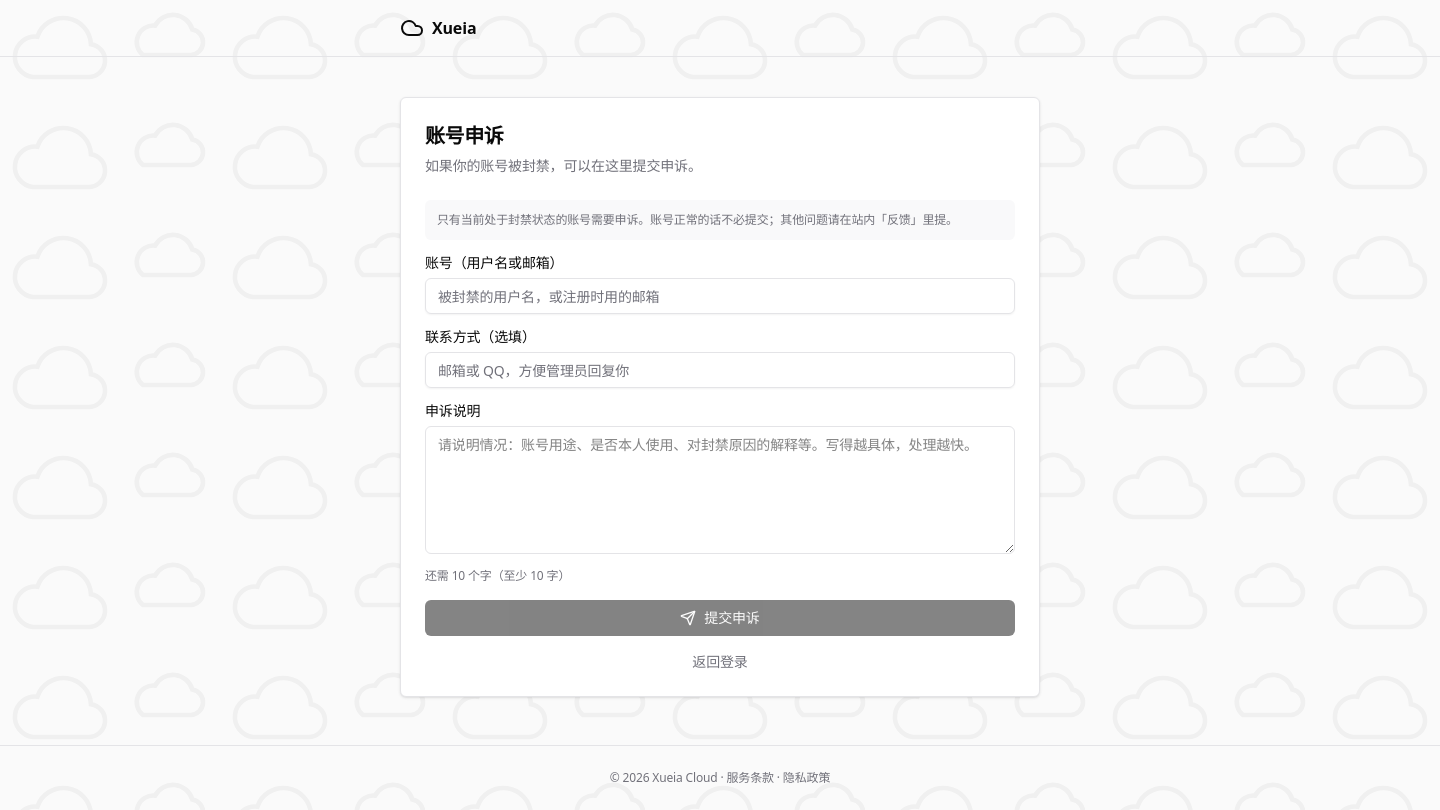
AppealPage（公开页） › submits and switches to the submitted state
In the field labelled "账号（用户名或邮箱）": {"x": 720, "y": 296} [425,278,1015,314], type "jooyang"
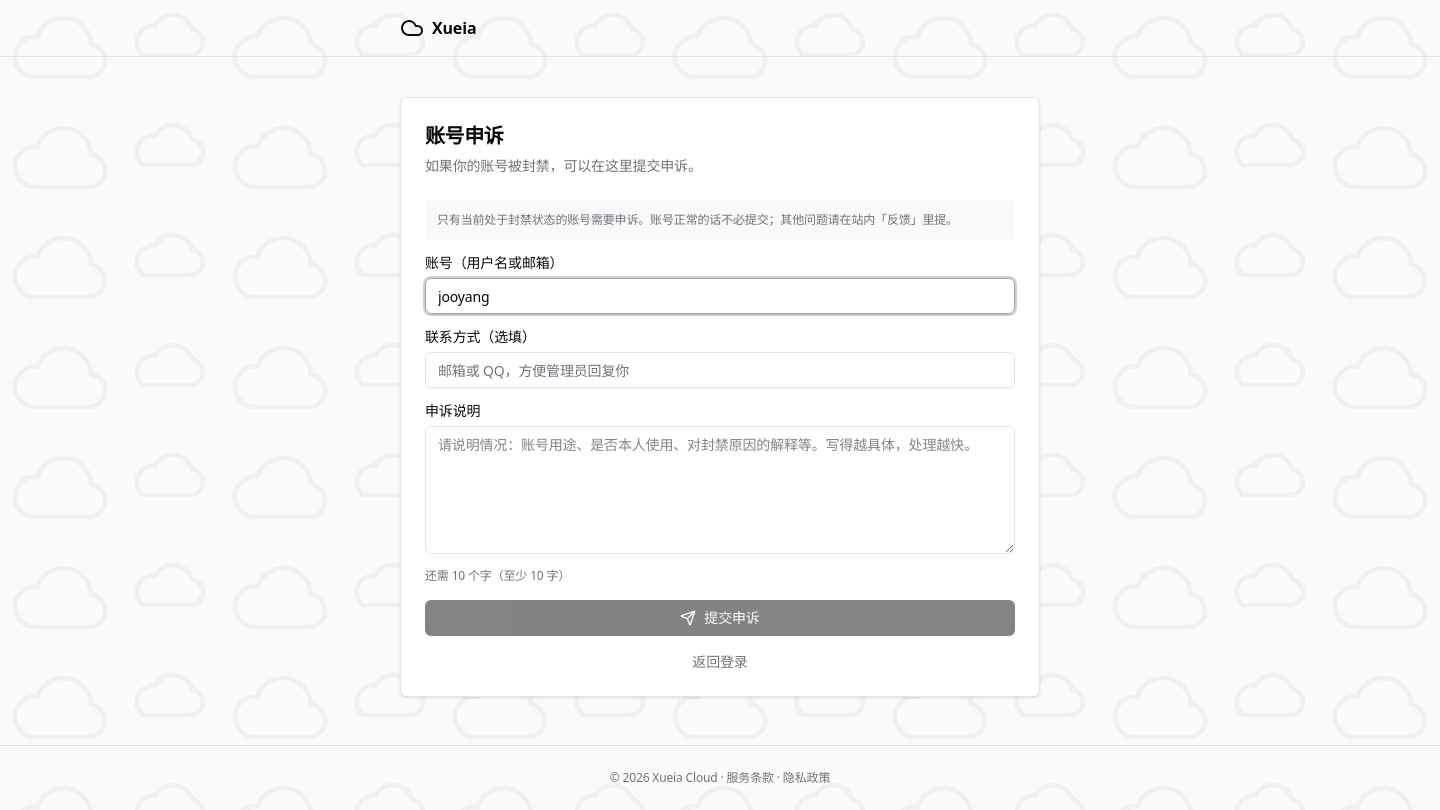
In the text box labelled "申诉说明": {"x": 720, "y": 490} [425,426,1015,554], type "我的账号被误封了，请管理员复核，谢谢。"
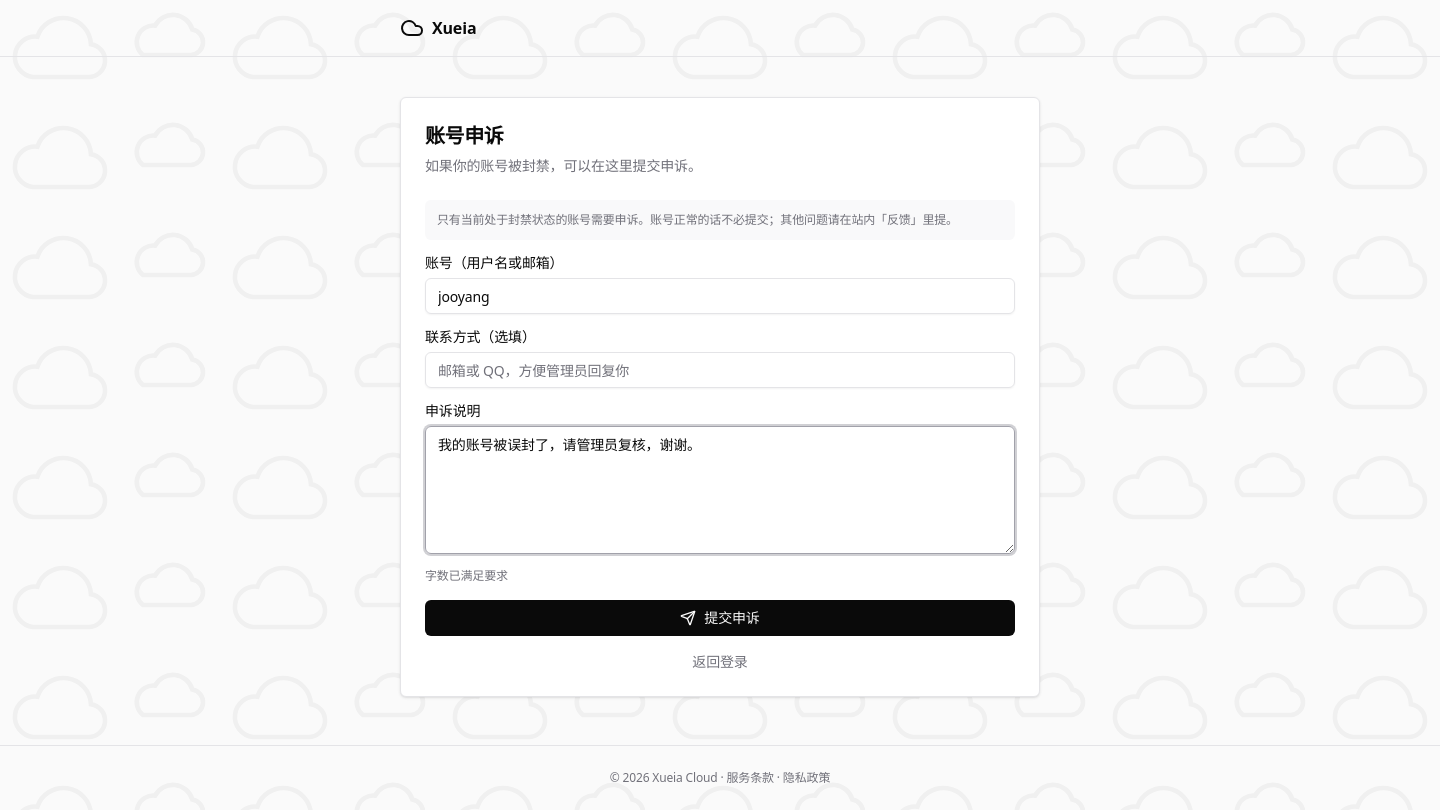
Click the button "提交申诉": {"x": 720, "y": 618} [425,600,1015,636]
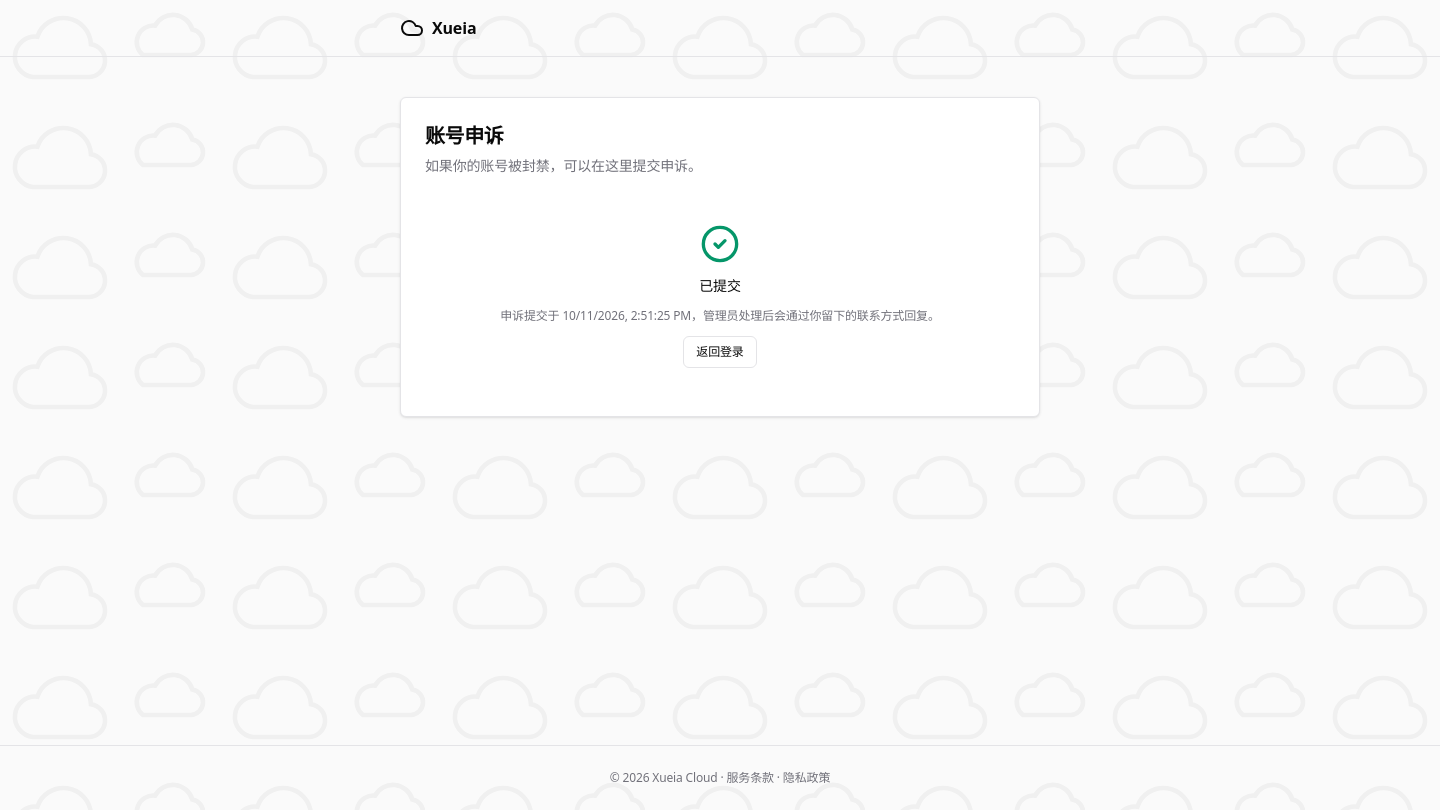
Expected: the text "已提交" is shown, [699,276,741,296]
